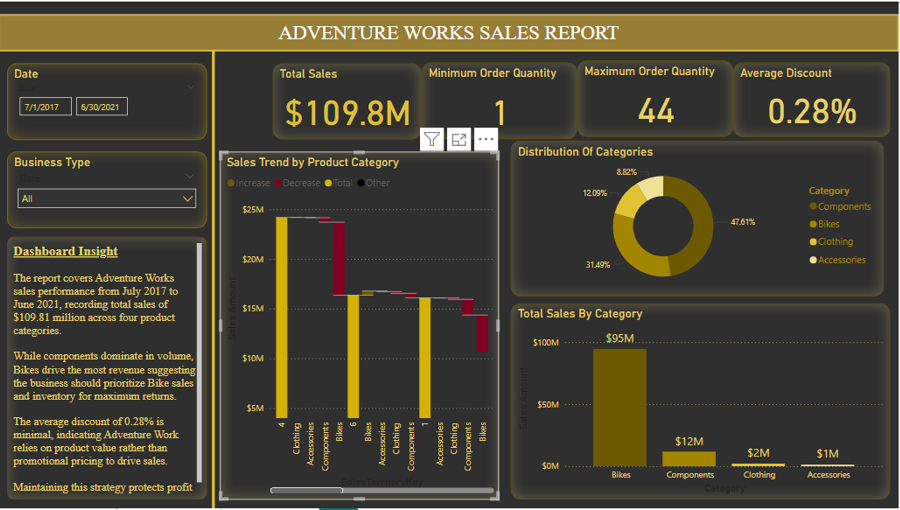

What the dashboard file says about the page in this screenshot:
{"tool":"powerbi","page":{"name":"Dashboard","canvas":[1280,720],"ordinal":1},"visuals":[{"type":"shape","box":[0,18.5,1280.3,52.4],"z":0},{"type":"card","title":"Total Sales","fields":{"Values":["Sum(Sales.Sales Amount)"]},"box":[389.7,88.1,212,107.6],"z":1000},{"type":"card","title":"Minimum Order Quantity","fields":{"Values":["Min(Sales.Order Quantity)"]},"box":[601.7,86.4,221.8,109.3],"z":2000},{"type":"card","title":"Average Discount","fields":{"Values":["Avg(Sales.Unit Price Discount Pct)"]},"box":[1045.2,86.4,223.4,106],"z":3000},{"type":"card","title":"Maximum Order Quantity","fields":{"Values":["Max(Sales.Order Quantity)"]},"box":[823.5,83.2,221.8,109.3],"z":4000},{"type":"clusteredColumnChart","title":"Total Sales By Category","fields":{"Category":["Product.Category"],"Y":["Sum(Sales.Sales Amount)"]},"box":[728.7,429.1,539.2,278.7],"z":5000},{"type":"donutChart","title":"Distribution Of Categories","fields":{"Category":["Product.Category"],"Y":["CountNonNull(Product.Category)"]},"box":[728.9,197.3,529.9,221.8],"z":6000},{"type":"shape","box":[296.8,70.1,17.9,650.6],"z":7000},{"type":"slicer","title":"Date","fields":{"Values":["Date.Date"]},"box":[13,88.1,283.7,109.3],"z":8000},{"type":"slicer","title":"Business Type","fields":{"Values":["Reseller.Business Type"]},"box":[13,213.6,283.7,109.3],"z":9000},{"type":"waterfallChart","title":"Sales Trend by Product Category","fields":{"Category":["Sales.SalesTerritoryKey"],"Y":["Sum(Sales.Sales Amount)"],"Breakdown":["Product.Category"]},"box":[314.7,213.6,397.9,494.1],"z":10000},{"type":"textbox","box":[12.5,334.4,284.2,373.4],"z":11000}]}

Visuals, with their boxes in screenshot pixels (x1, y1, x2, y2), scaled from the page's 1280x720 canvas onto the 900x510 screenshot:
shape: crop(0, 13, 899, 50)
"Total Sales" card: crop(274, 62, 423, 139)
"Minimum Order Quantity" card: crop(423, 61, 579, 139)
"Average Discount" card: crop(735, 61, 892, 136)
"Maximum Order Quantity" card: crop(579, 59, 735, 136)
"Total Sales By Category" clusteredColumnChart: crop(512, 304, 891, 501)
"Distribution Of Categories" donutChart: crop(513, 140, 885, 297)
shape: crop(209, 50, 221, 509)
"Date" slicer: crop(9, 62, 209, 140)
"Business Type" slicer: crop(9, 151, 209, 229)
"Sales Trend by Product Category" waterfallChart: crop(221, 151, 501, 501)
textbox: crop(9, 237, 209, 501)
